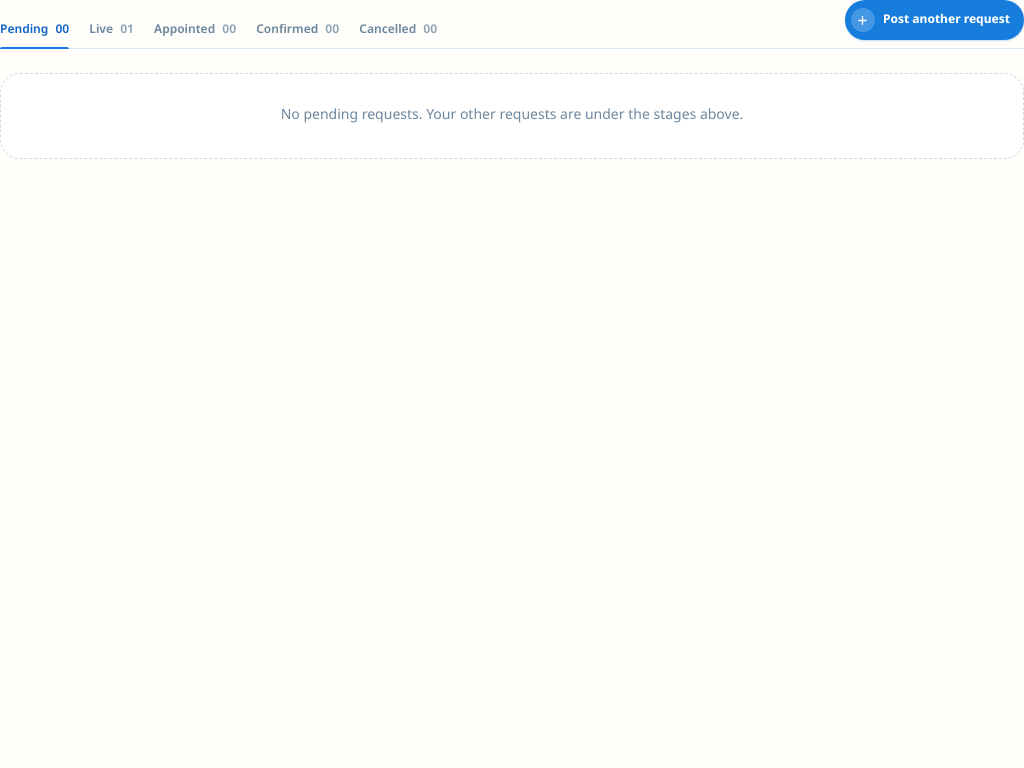
Test: Applied Tutors on the Guardian's Posted jobs board › counts the applicants on a live tuition, on the card and in the dialog
What coordinates should you click on to do the following:
click the tab "Live 01"
I would click on:
 (112, 32)
Its box is [89,16,134,48].
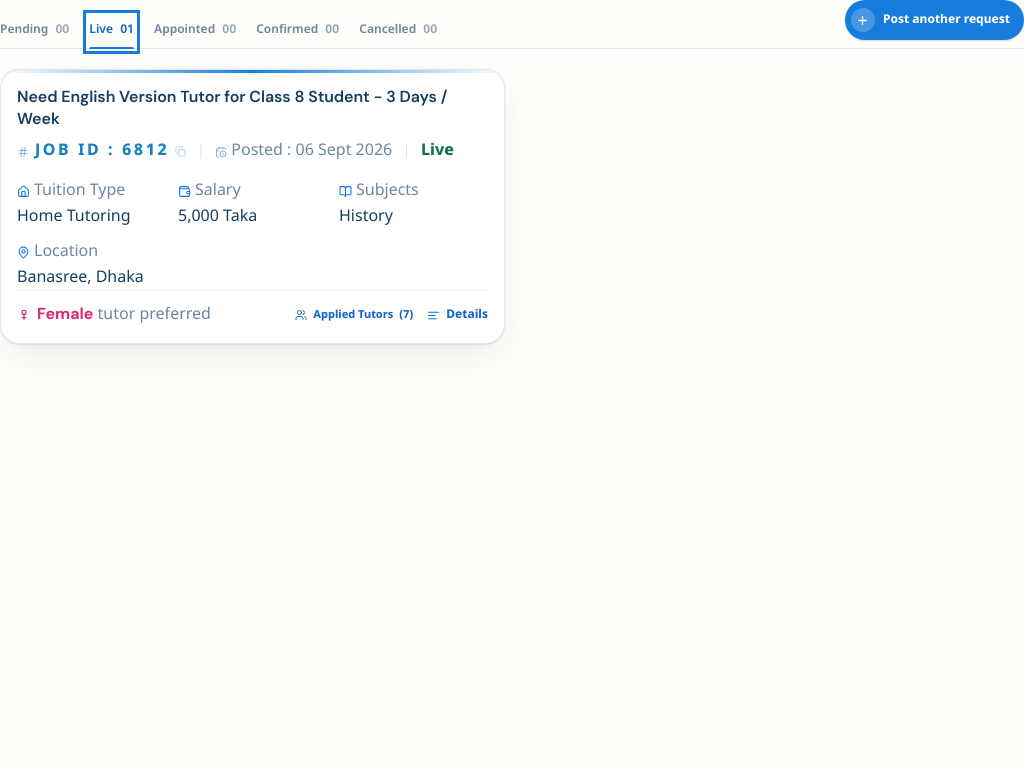
Result: the link "Applied Tutors (7)" is shown at [295,307,413,323]
What coordinates should you click on to do the following:
click the button named "Job ID 6812"
I would click on:
 (252, 206)
Its box is [0,69,505,344].
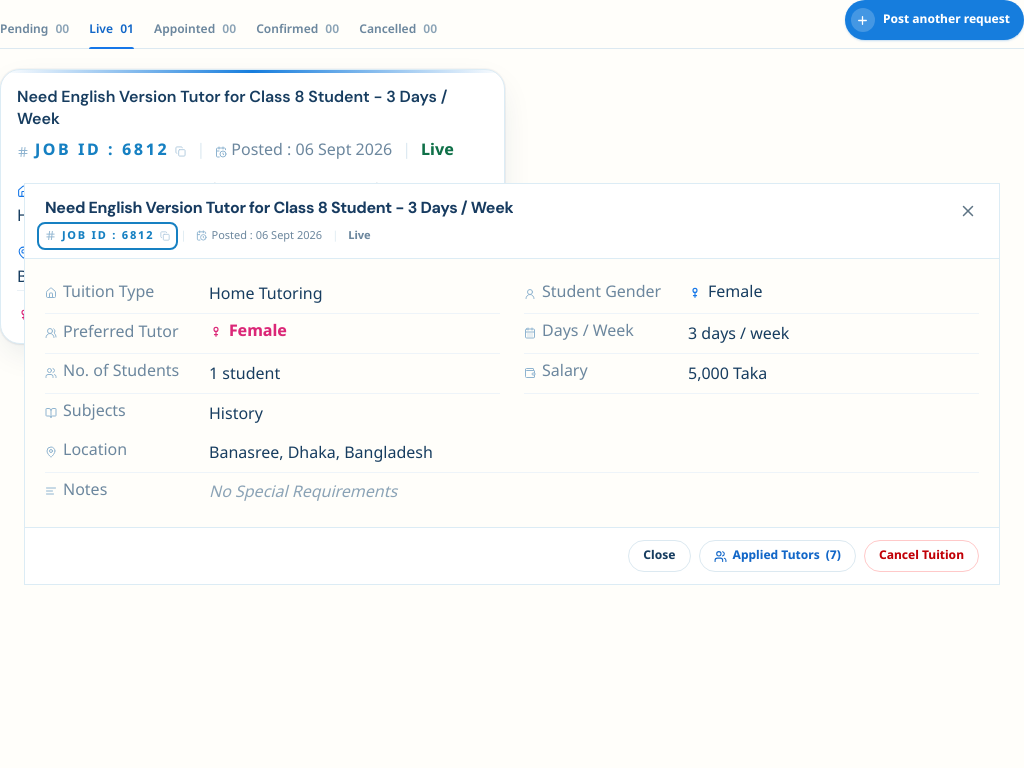
Result: the link "Applied Tutors (7)" is shown at [698,540,856,572]
